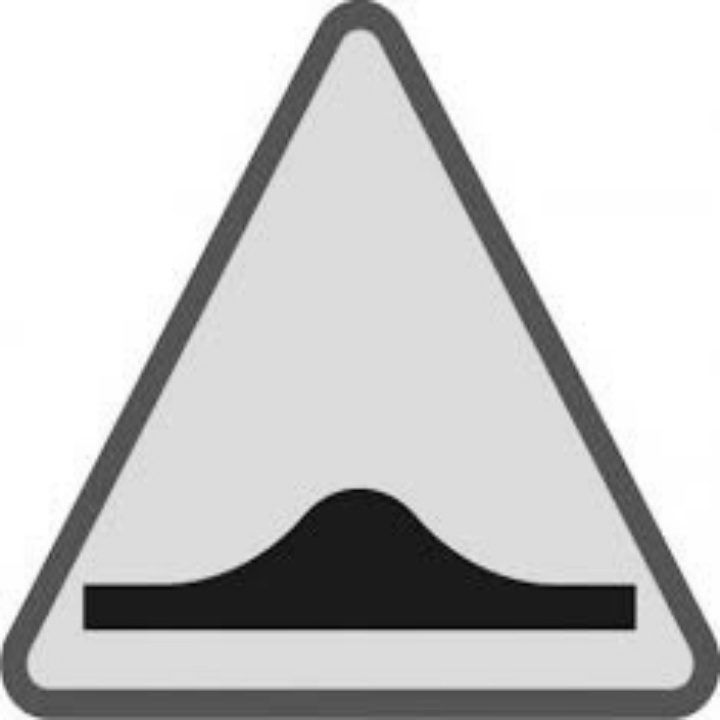bump: (82, 489, 657, 649)
